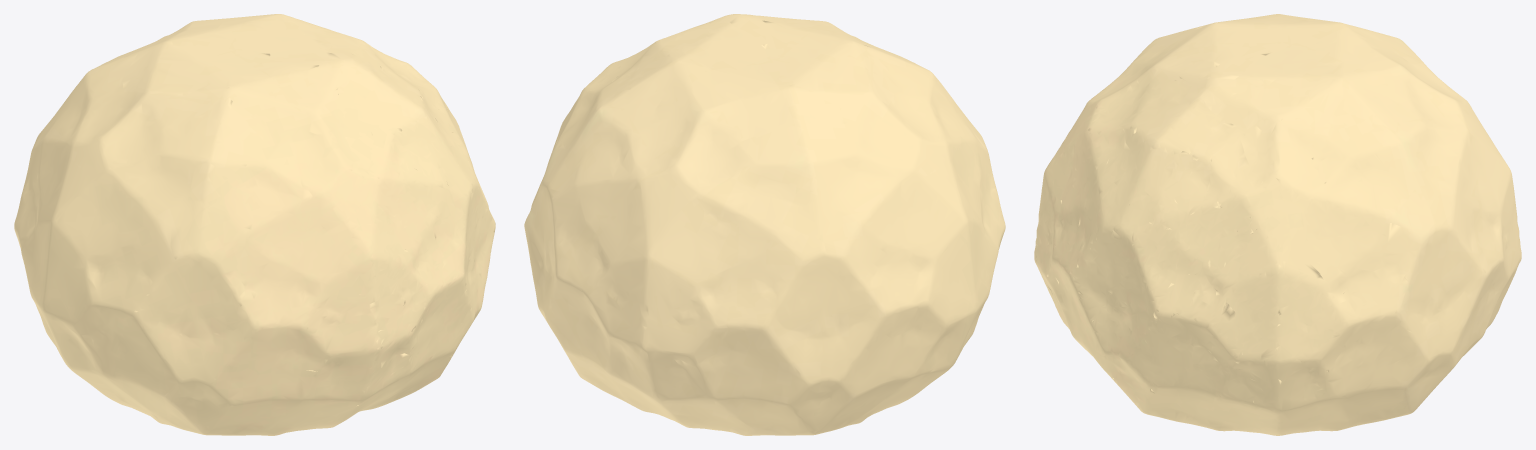
The model's file is dough-ball.glb.
3 renders of one model, left to right at view 1: azimuth 30°, elevation 25°; view 2: azimuth 150°, elevation 25°; view 3: azimuth 270°, elevation 25°, orthographic.
Parts seen in each view (by area): view 1: Mesh_0; view 2: Mesh_0; view 3: Mesh_0.
Part boxes in pixels (x1=…): Mesh_0: x1=14, y1=14, x2=495, y2=435; Mesh_0: x1=524, y1=14, x2=1005, y2=435; Mesh_0: x1=1034, y1=14, x2=1521, y2=435.
Size of the model in its own units: 0.0671 by 0.05 by 0.0671.
1 material, 1 textured.
